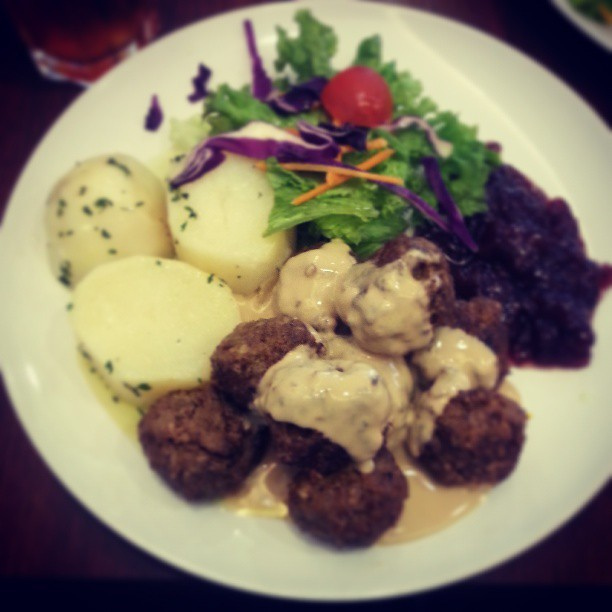boiled potatoes: (75, 266, 222, 390), (34, 156, 166, 270), (151, 156, 281, 267)
chopped lettuce: (251, 51, 478, 236)
meatballs: (286, 447, 401, 545), (141, 386, 244, 492), (284, 368, 380, 456), (421, 392, 514, 477), (371, 246, 450, 344), (215, 316, 314, 393), (415, 304, 494, 391)
